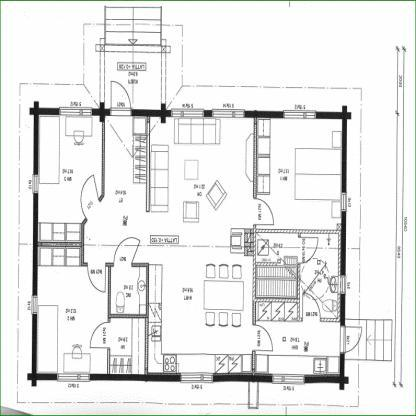door: (76, 172, 100, 220), (337, 320, 367, 356), (107, 78, 134, 118), (110, 236, 142, 265), (250, 320, 276, 354), (250, 195, 276, 228), (86, 262, 109, 295), (88, 319, 110, 349)
window: (179, 368, 215, 387), (55, 367, 91, 385), (268, 370, 305, 387), (170, 107, 206, 123), (280, 108, 318, 122), (59, 104, 95, 118), (210, 107, 246, 121), (338, 189, 350, 213), (31, 169, 41, 194), (30, 291, 40, 316), (338, 270, 348, 295)
